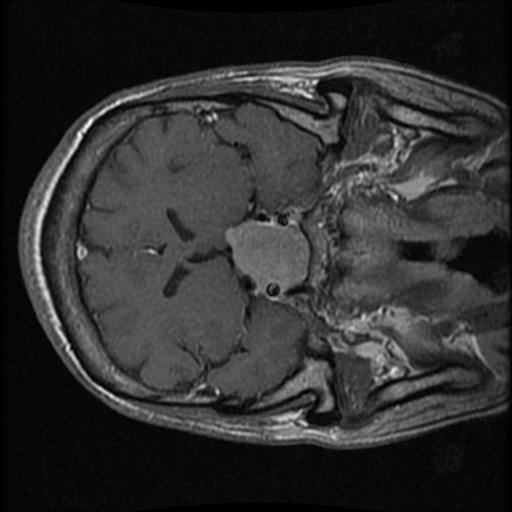pituitary tumour: (227, 222, 307, 290)
